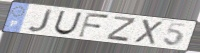5: (162, 22, 189, 48)
F: (76, 12, 111, 39)
J: (26, 9, 54, 33)
U: (52, 9, 83, 36)
X: (133, 18, 164, 46)
Z: (104, 15, 137, 43)
